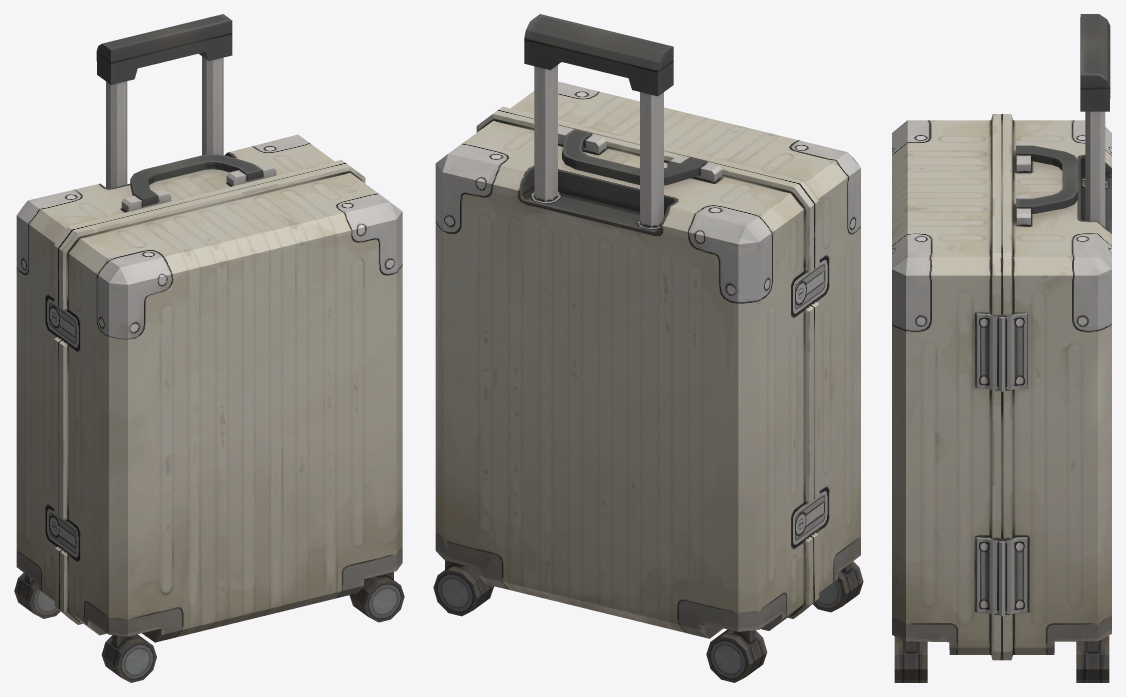
Rendered from P_Container_00163.obj.
3 renders of one model, left to right at view 1: azimuth 30°, elevation 25°; view 2: azimuth 150°, elevation 25°; view 3: azimuth 270°, elevation 25°, orthographic. The views are drawn at different scales.
Bounding box in the file's own units: 0.6256 × 1.07 × 0.3726.
Materials: 1 (1 with a texture image).
